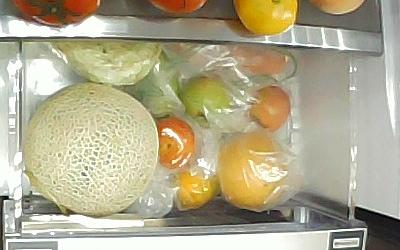cabbage: (48, 38, 162, 86)
melon: (23, 82, 158, 218)
pear_vinyl: (217, 133, 291, 212)
prune_vinyl: (154, 118, 196, 169)
tangerine_vinyl: (176, 167, 217, 210)
tomato_vinyl: (180, 75, 233, 126), (249, 86, 292, 132)
